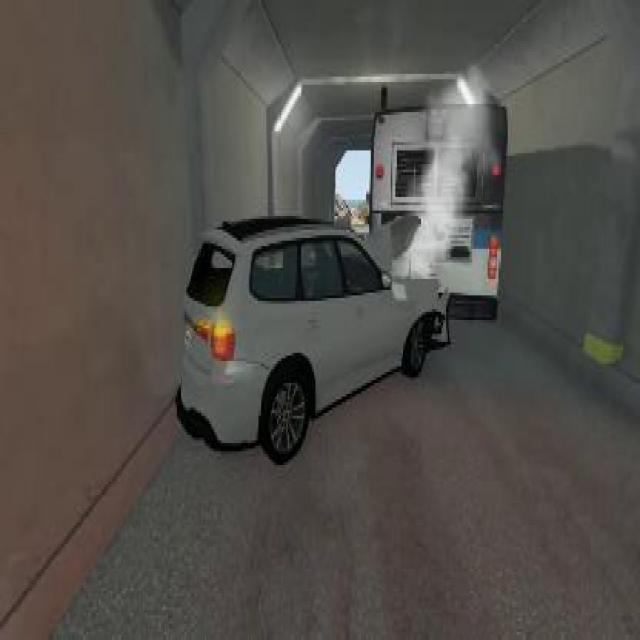accident: (168, 88, 522, 456)
